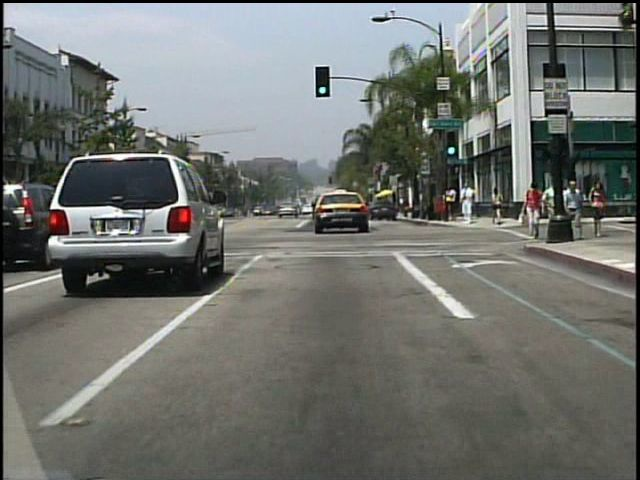person: (519, 182, 545, 242), (541, 179, 562, 240), (565, 179, 586, 239), (587, 179, 607, 238), (551, 180, 567, 229), (528, 188, 543, 229), (490, 187, 505, 227), (462, 184, 476, 226), (446, 182, 457, 222)
